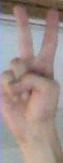V: (0, 1, 63, 148)
